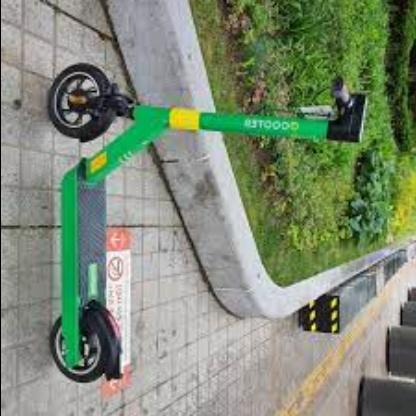bike: (46, 62, 398, 388)
